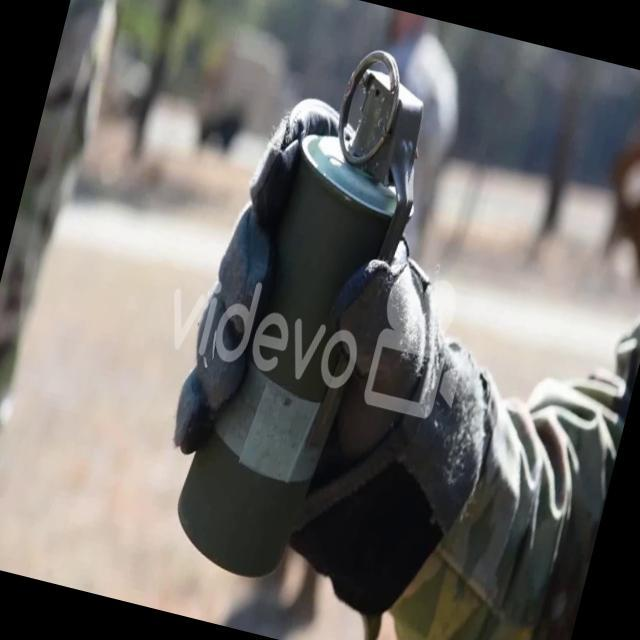grenade: (154, 24, 452, 604)
